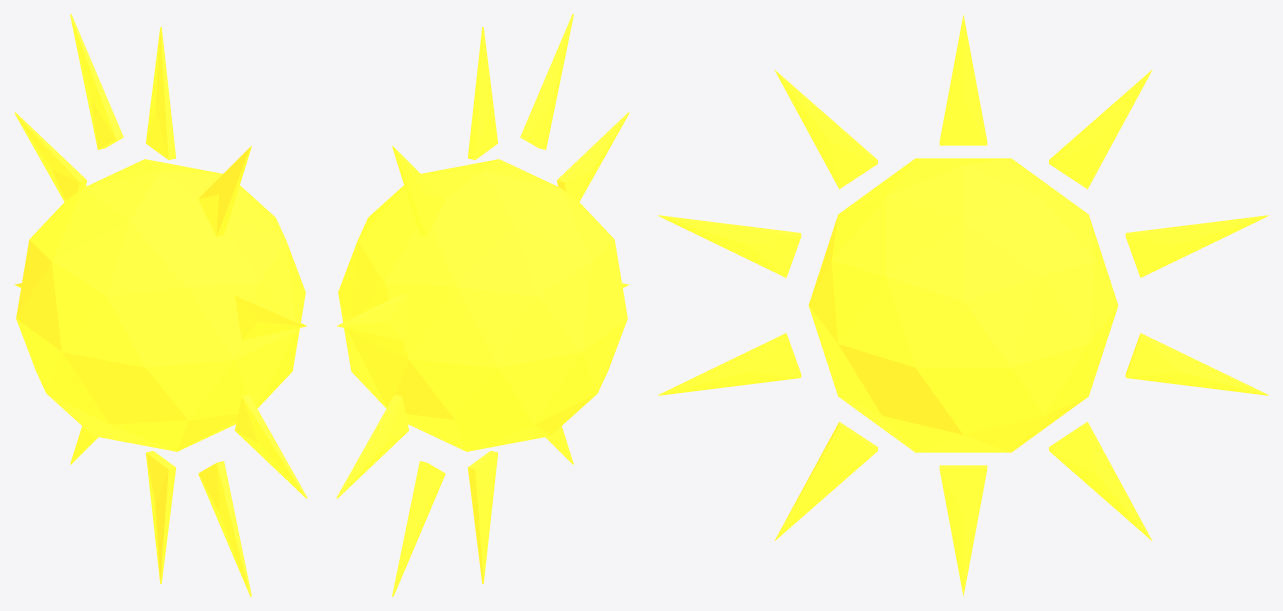
Rendered from sun.glb.
The picture shows the model from 3 angles, left to right: view 1: azimuth 30°, elevation 25°; view 2: azimuth 150°, elevation 25°; view 3: azimuth 270°, elevation 25°; orthographic projection. The views are drawn at different scales.
Visible parts, largest first — view 1: Sun; view 2: Sun; view 3: Sun.
Part boxes in pixels (<box>): Sun: <box>14,14,307,596</box>; Sun: <box>336,14,629,596</box>; Sun: <box>658,14,1268,596</box>.
Bounding box in the file's own units: 2.81 × 6.12 × 5.82.
